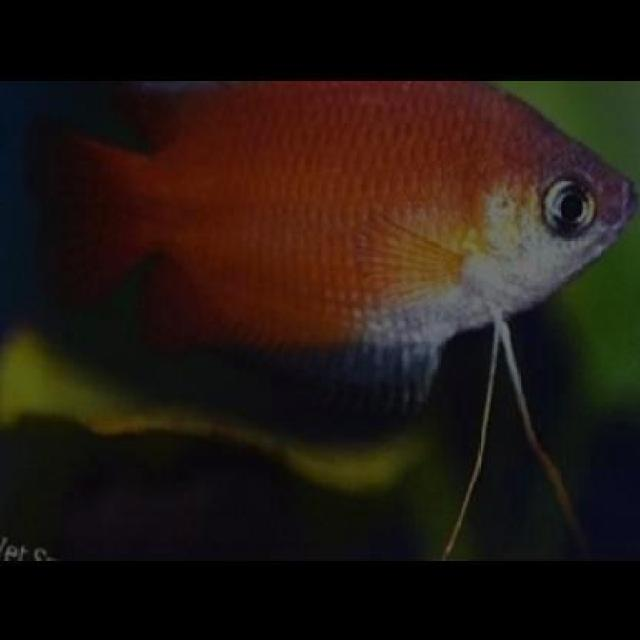Gourami: (23, 78, 639, 414)
